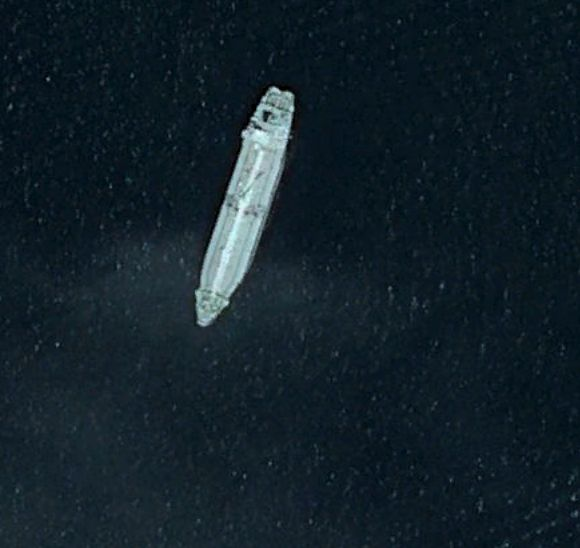boat: (193, 85, 296, 328)
